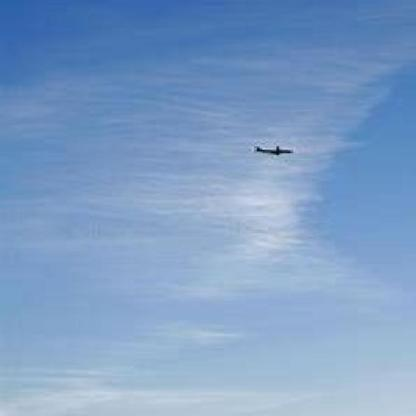plane: (253, 140, 298, 163)
